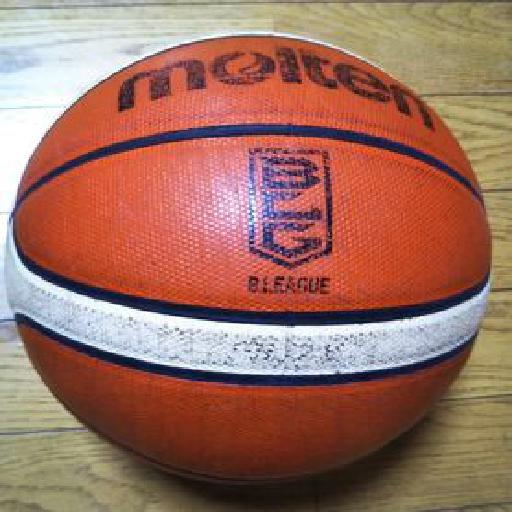ball: (6, 29, 491, 488)
